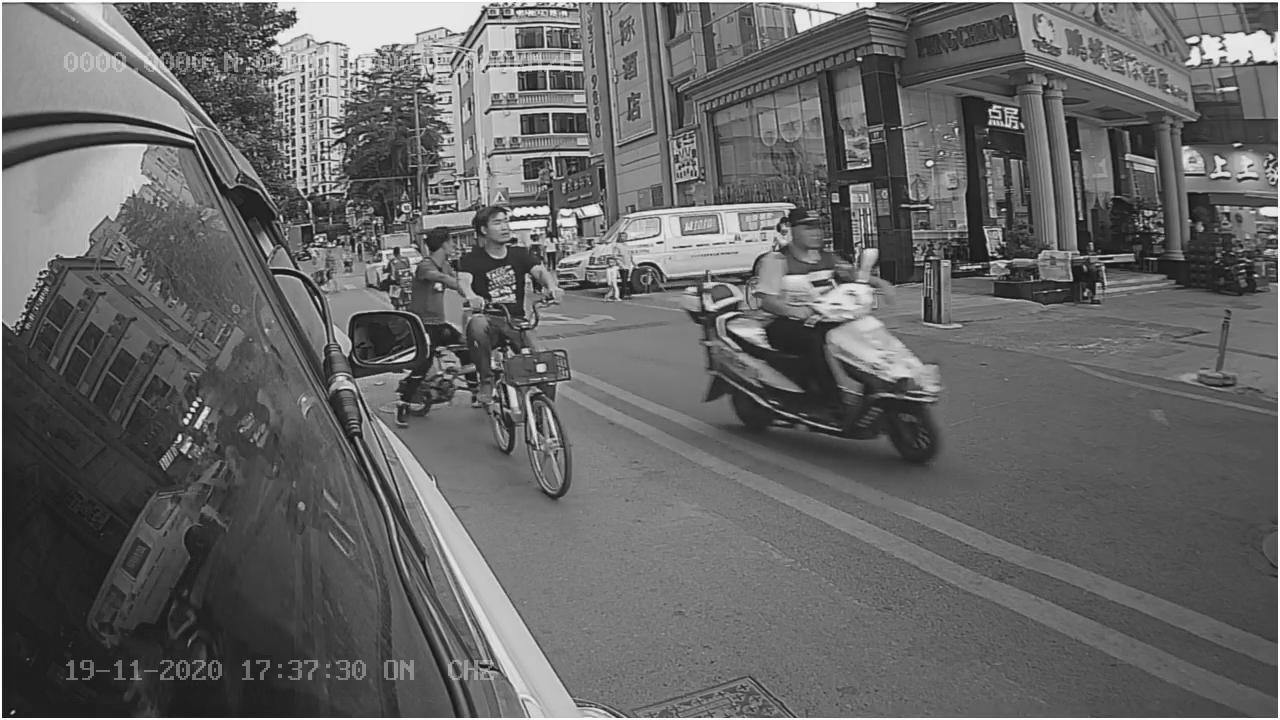person: (455, 208, 562, 309)
